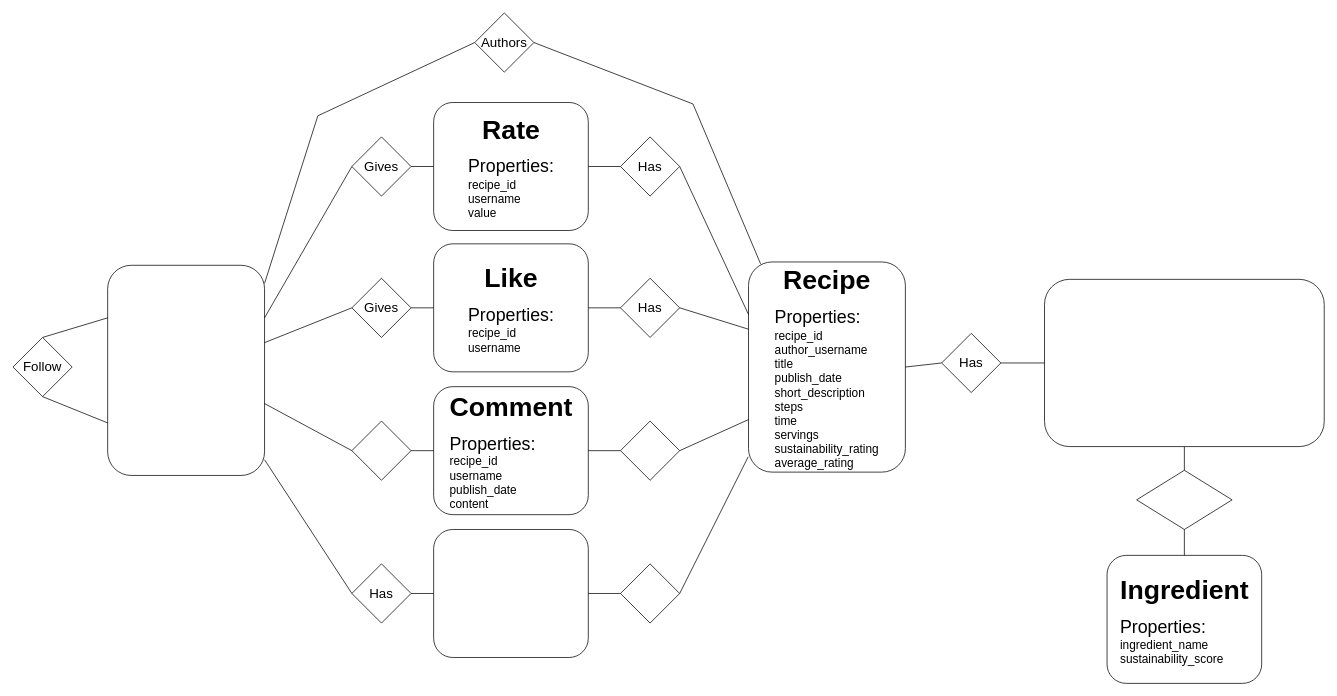
Some shapes in this 1337 by 696 pixel diagram are drawn without their labels. The shapes that lost their labels are listed below. From the top down, each one's box as (x1, y1, x2, y2) in pixels, then its label:
(107, 265, 265, 475): User Properties: username password bio
(1044, 279, 1324, 447): Contains_ingredient Properties: recipe_id ingredient_id value units
(351, 420, 411, 480): Writes
(620, 420, 680, 480): Belongs
(1136, 470, 1232, 529): Contains
(433, 529, 588, 657): Bookmark Properties: recipe_id username
(620, 563, 680, 623): Is
